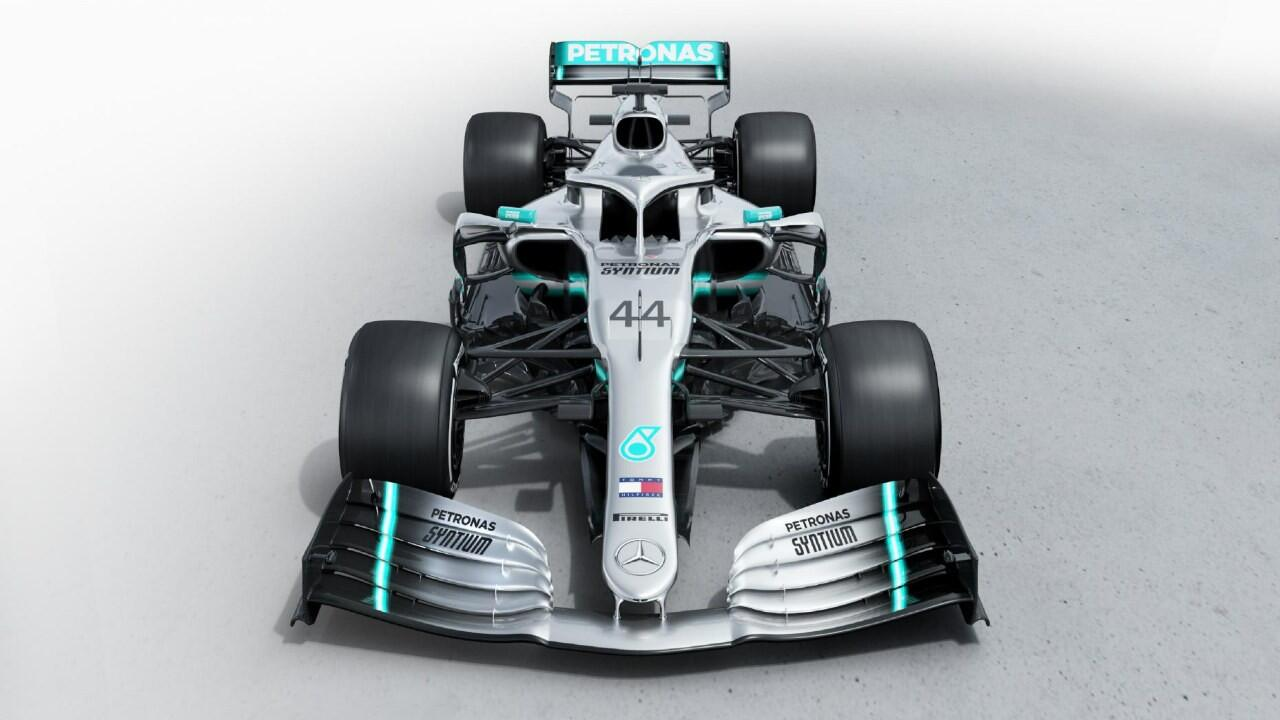f1_car: (258, 13, 1020, 702)
